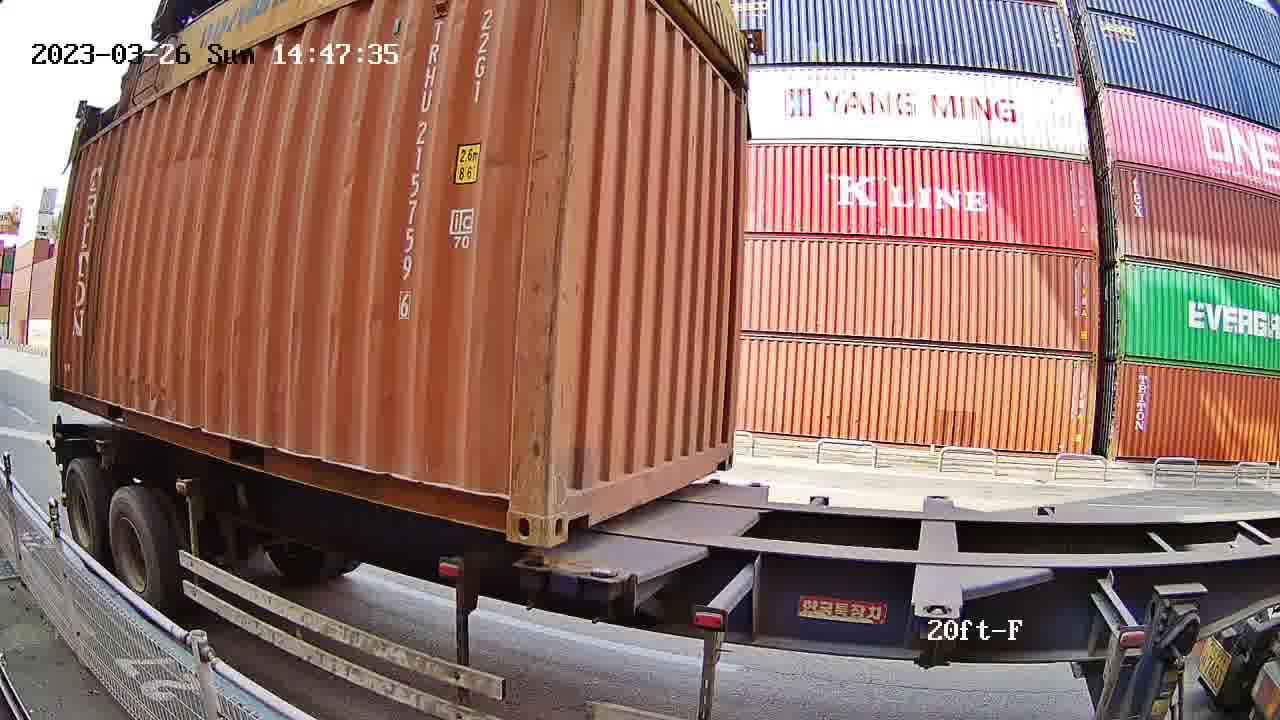Chassis: (583, 481, 766, 581)
Cone: (583, 565, 623, 628), (513, 549, 549, 614)
Hole_L: (549, 463, 598, 549)
Hole_R: (472, 467, 550, 549), (710, 430, 736, 471)
Tire: (106, 491, 161, 606), (66, 462, 103, 566)
